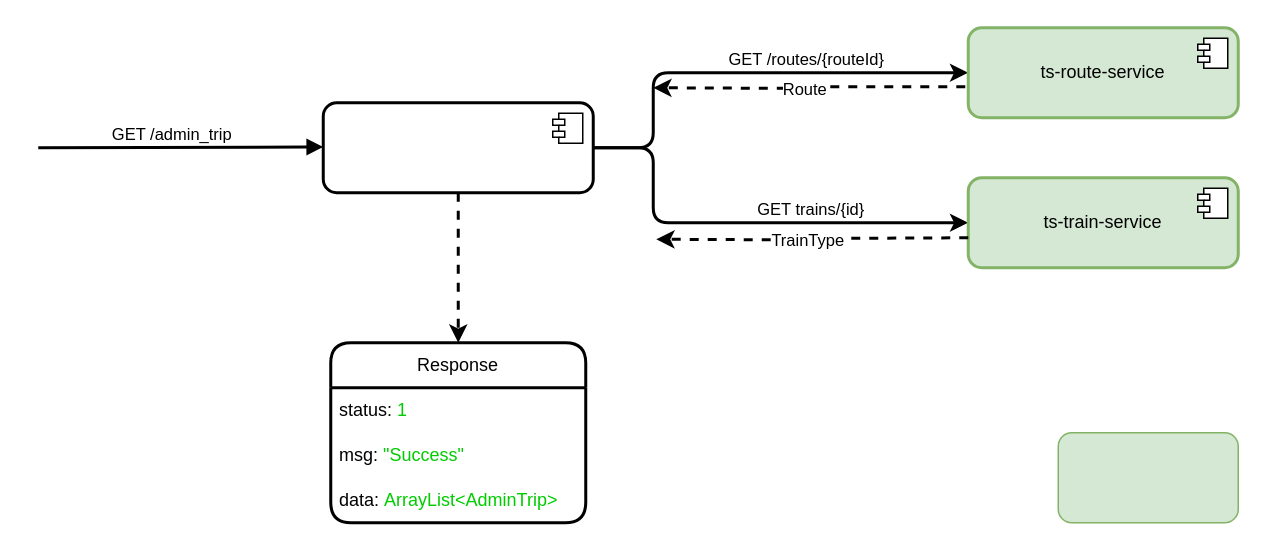
The diagram is 1265 pixels wide and 549 high, and some of its shapes have lost their labels. Here are the shapes that lost their labels. From the top down, the centre of each, then its label:
At [457,147]: "ts-travel-service".
At [1147,477]: "Service & Database".
